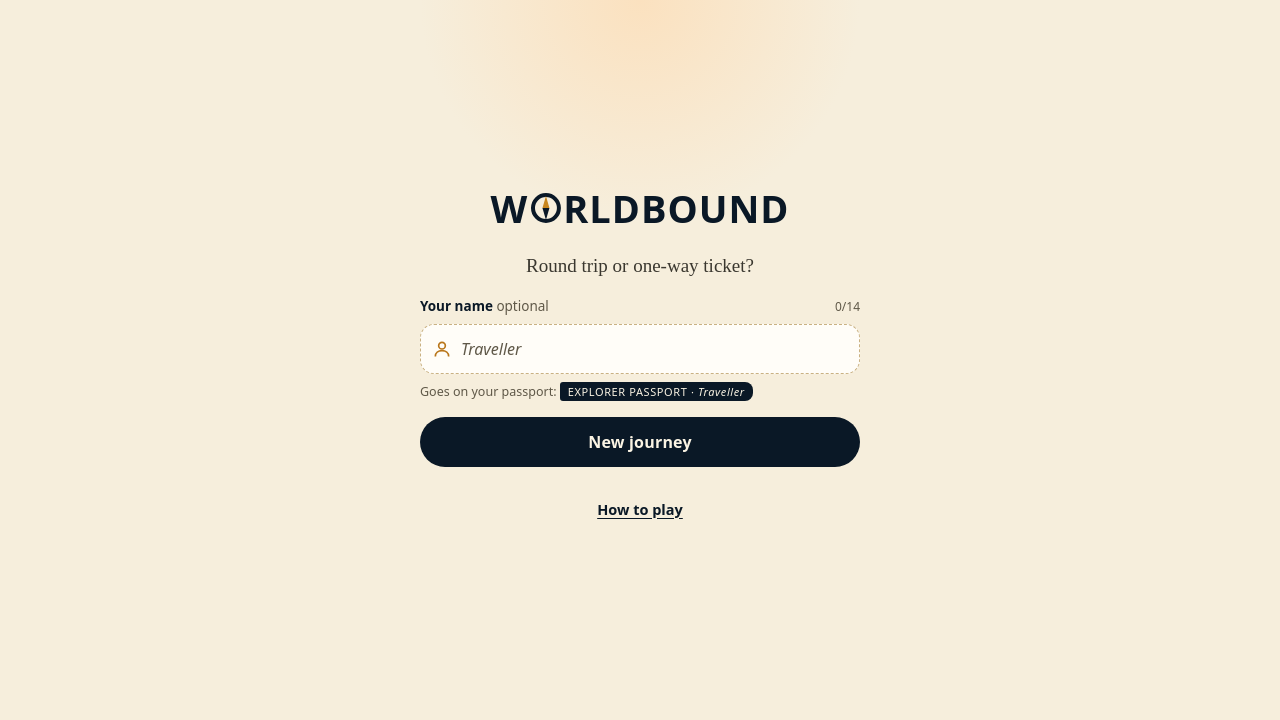
Test: Story 1.5 / FR-2 first-time intro › closes the menu with Esc and × and returns focus to the menu button
Click the button "New journey" at (640, 442), box [420,417,860,467]
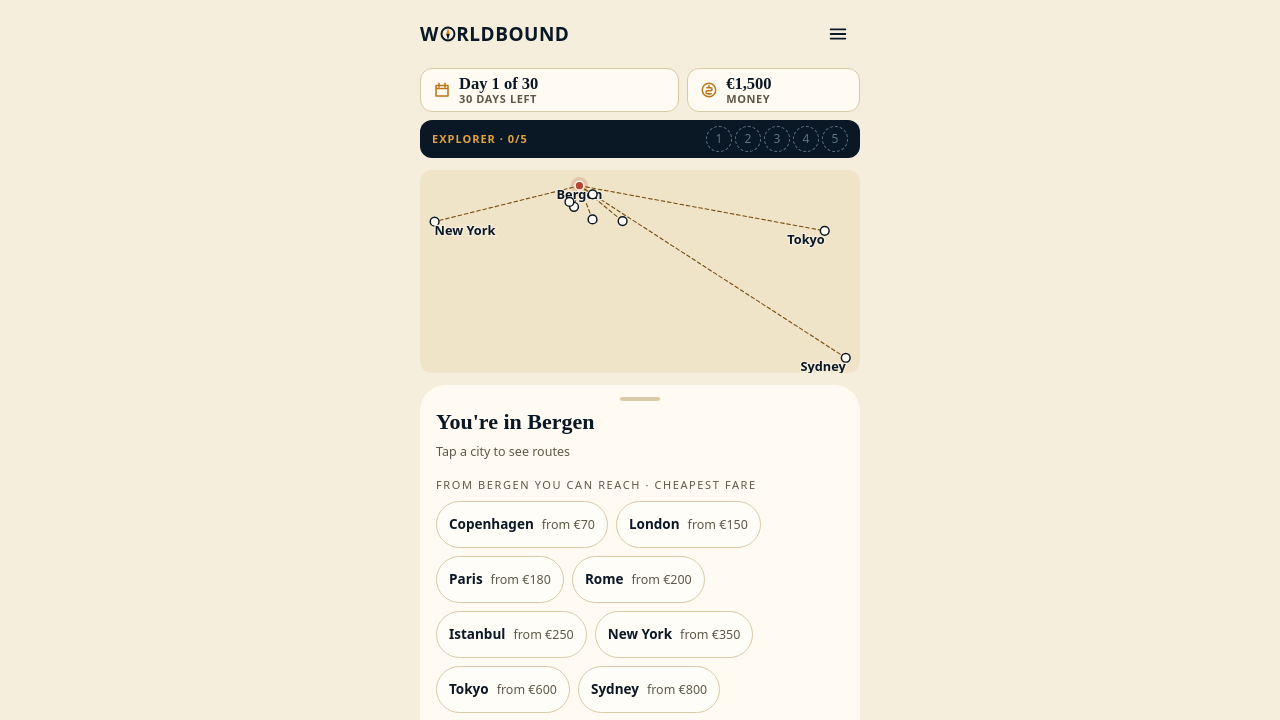
Click the button named "Menu" at (838, 34), box [816,12,860,56]
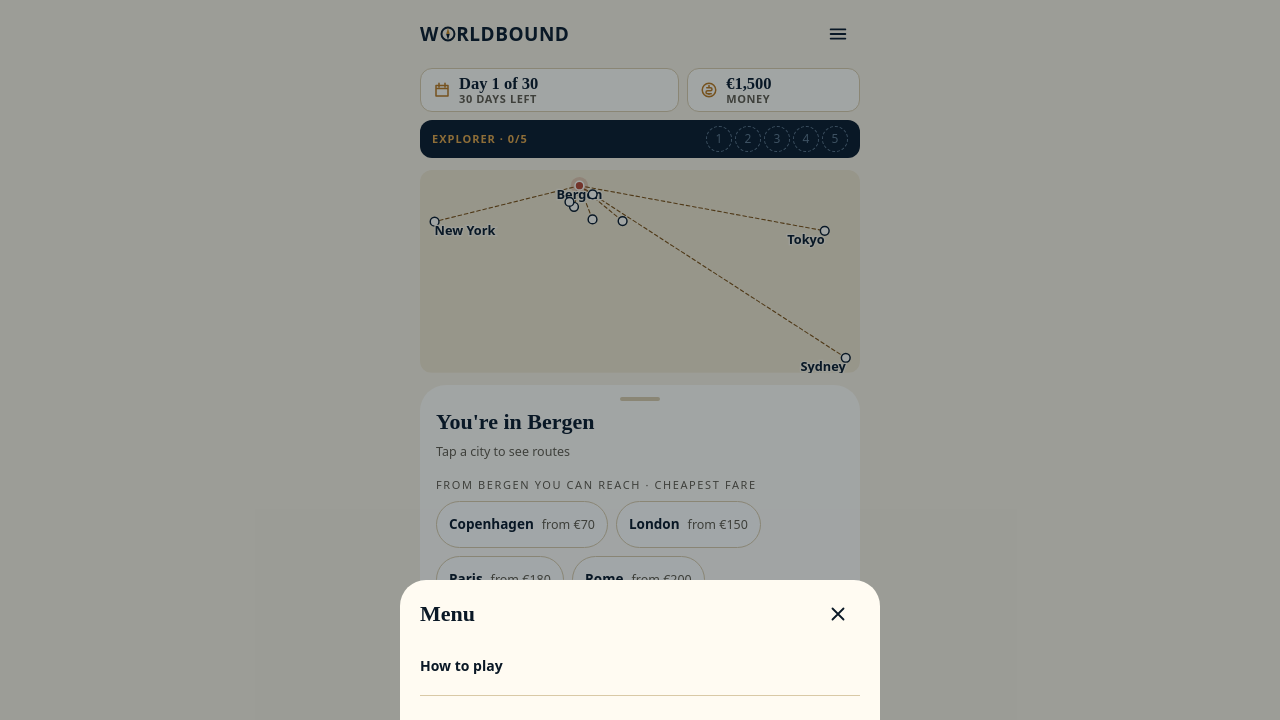
Press Escape in the dialog, box [400,580,880,719]
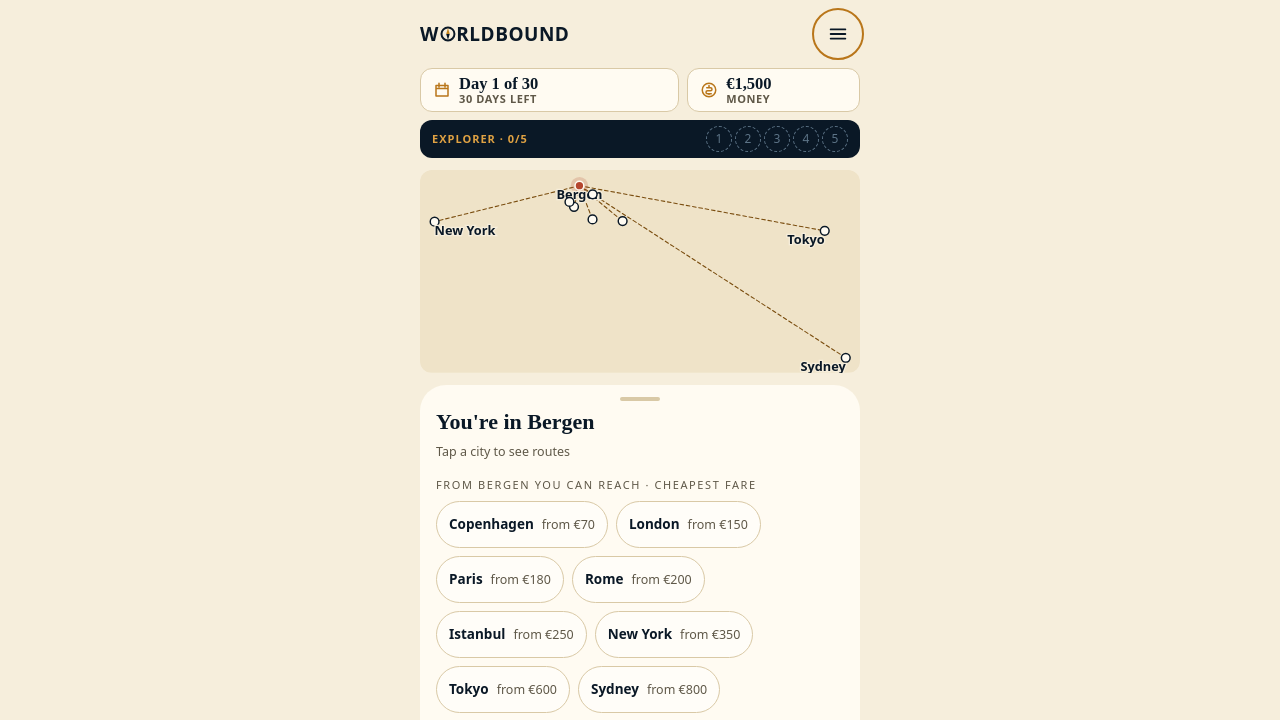
Expected: the dialog is gone
Click the button named "Menu" at (838, 34), box [816,12,860,56]
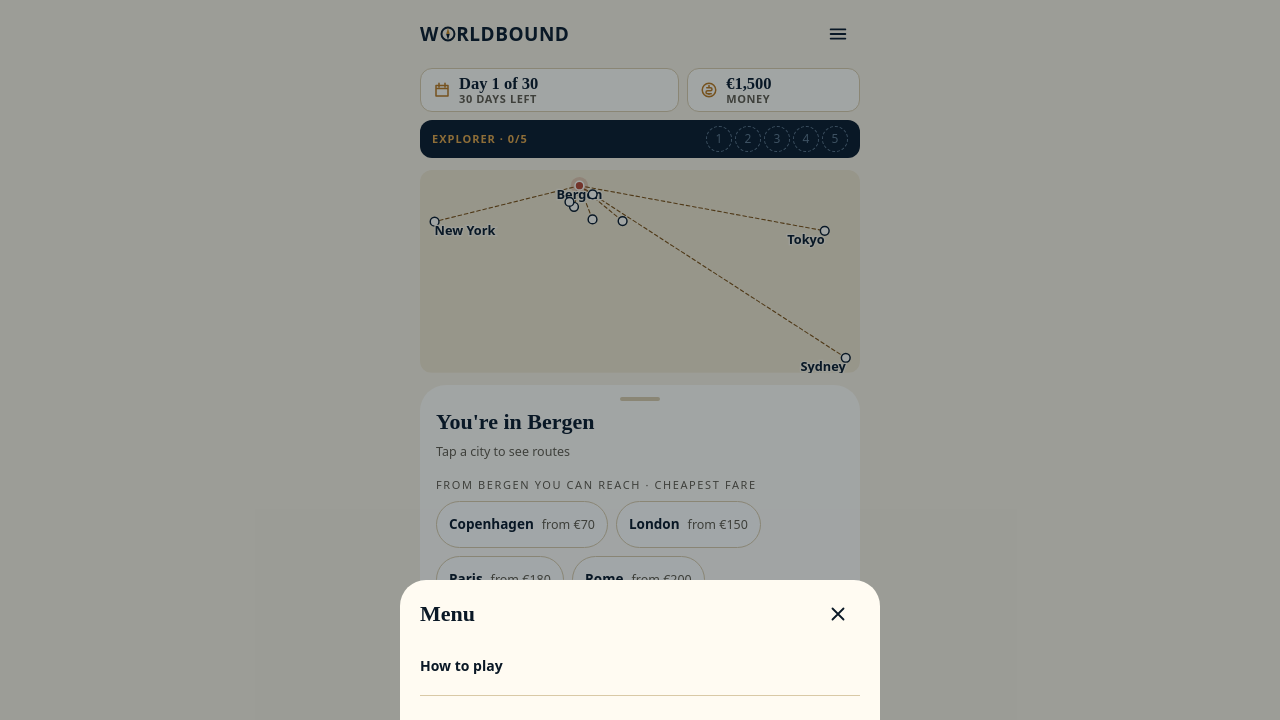
Click the button named "Close" at (838, 614), box [816,592,860,636]
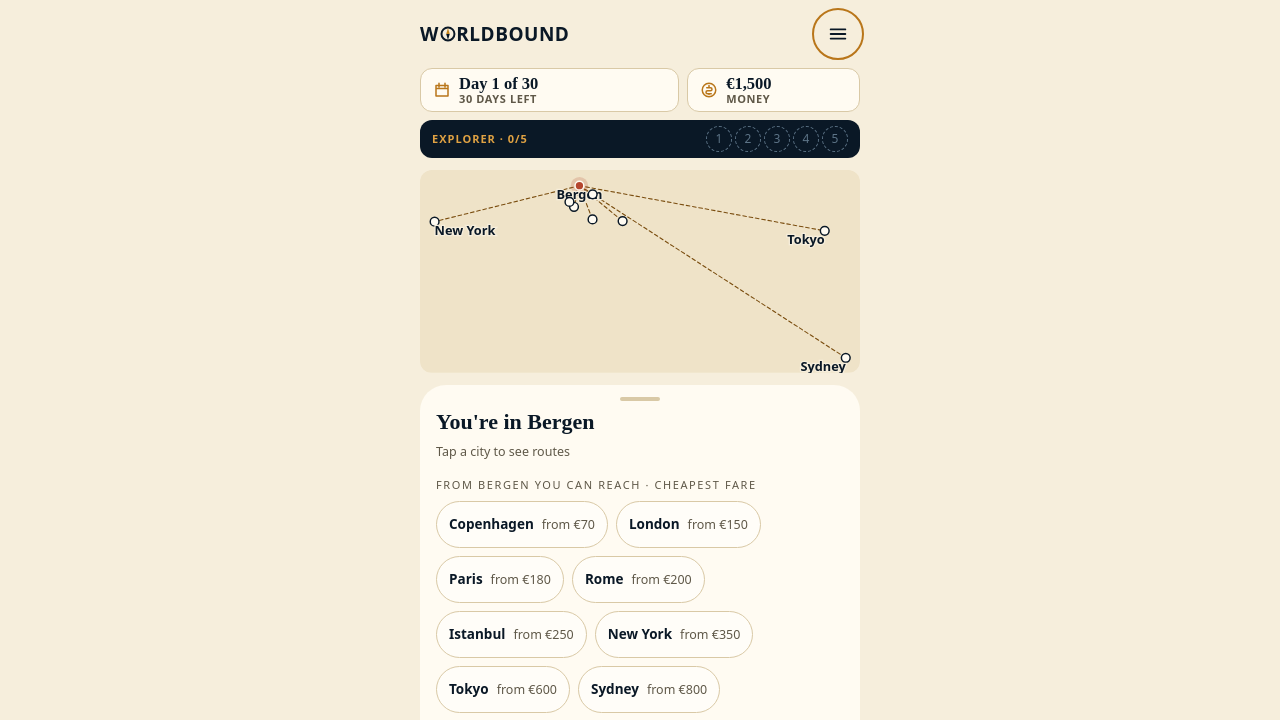
Expected: the dialog is gone
